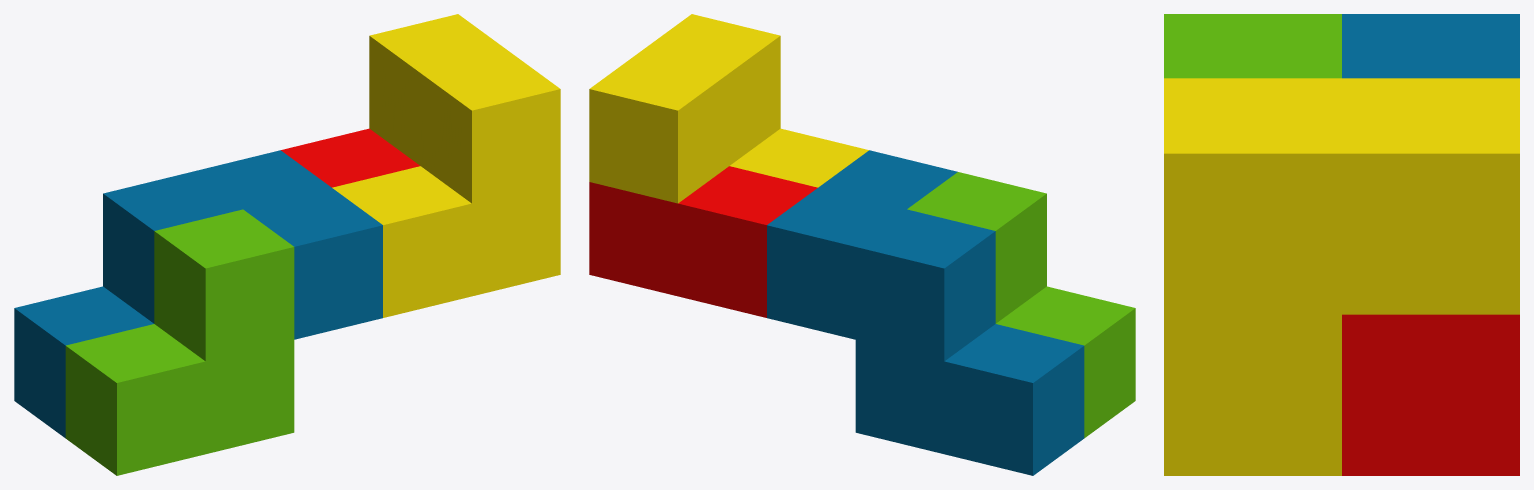
3 views of the same model, side by side, from view 1: azimuth 30°, elevation 25°; view 2: azimuth 150°, elevation 25°; view 3: azimuth 270°, elevation 25° (orthographic). The views are drawn at different scales.
Parts seen in each view (by area): view 1: mergedBlocks(Clone); view 2: mergedBlocks(Clone); view 3: mergedBlocks(Clone).
Part boxes in pixels (<box>): mergedBlocks(Clone): <box>14,14,560,475</box>; mergedBlocks(Clone): <box>589,14,1135,475</box>; mergedBlocks(Clone): <box>1164,14,1519,475</box>.
Bounding box in the file's own units: 5 × 3 × 2.
4 materials, 4 textured.
